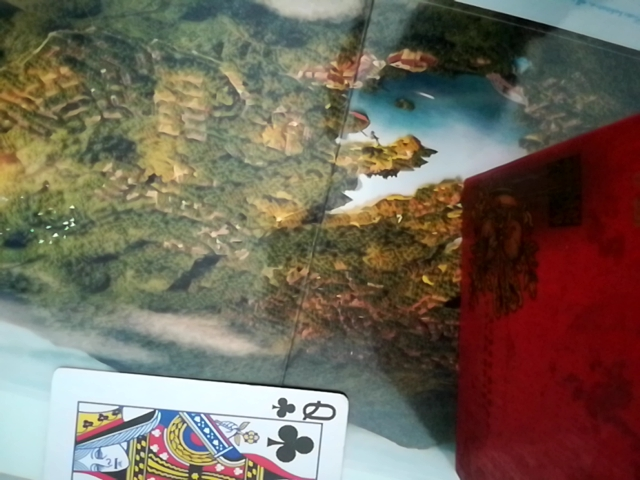mh q: (8, 367, 368, 477)
